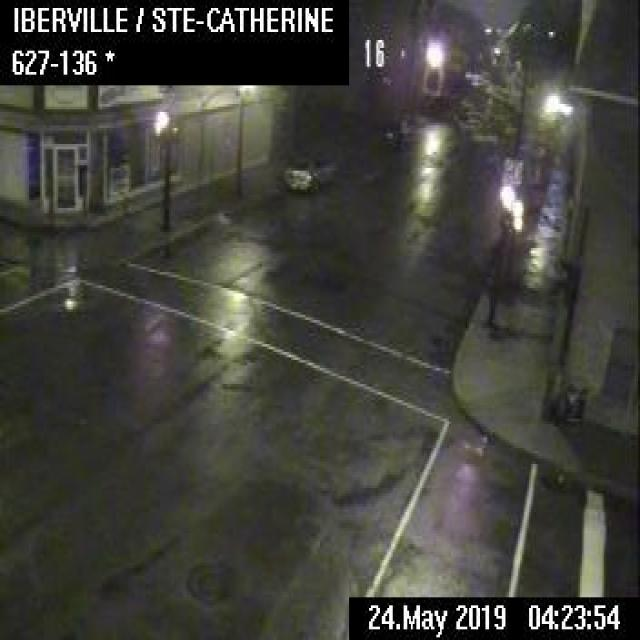vehicle: (282, 150, 335, 190)
